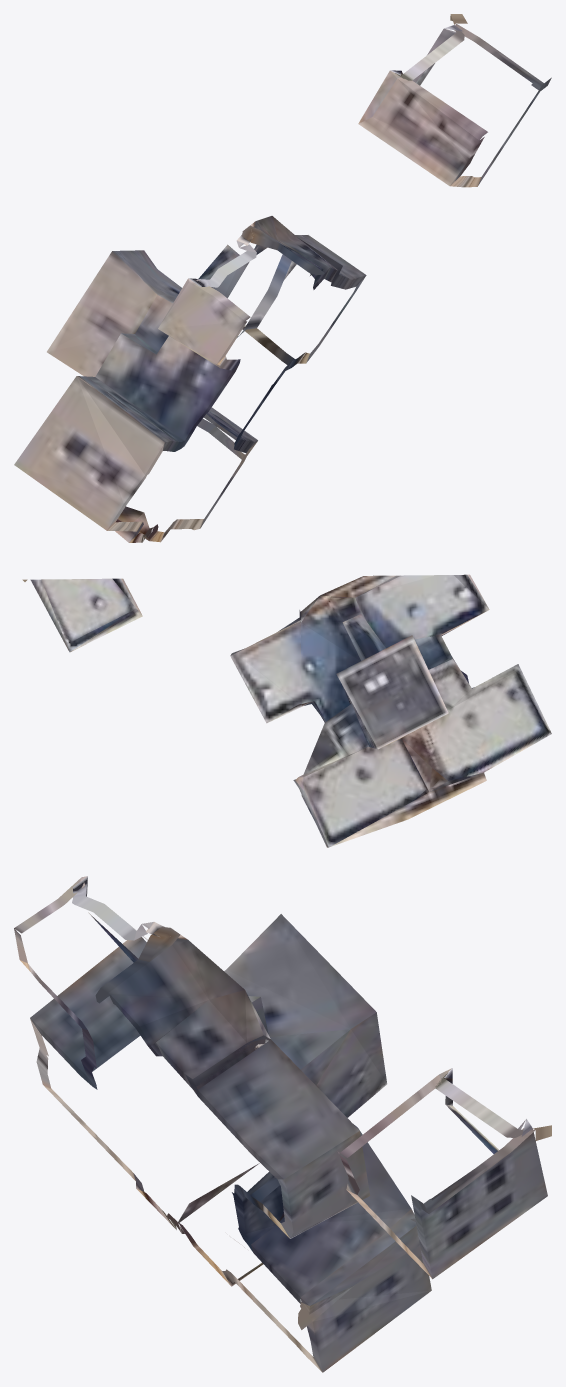
3 renders of one model, top to bottom at view 1: azimuth 30°, elevation 25°; view 2: azimuth 150°, elevation 25°; view 3: azimuth 270°, elevation 25°, orthographic. The views are drawn at different scales.
Size of the model in its own units: 59.27 by 31.99 by 34.19.
Materials: 1 (1 with a texture image).
